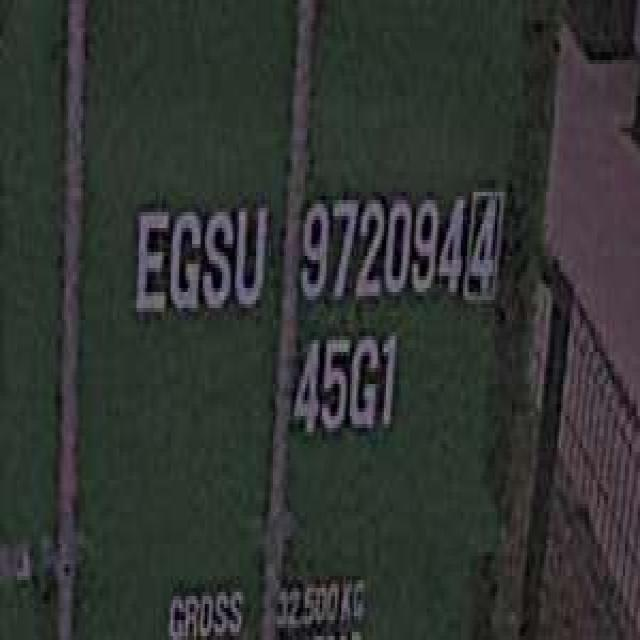dv: (463, 176, 503, 308)
owner: (128, 188, 269, 328)
serial: (292, 180, 465, 312)
size: (288, 324, 399, 444)
